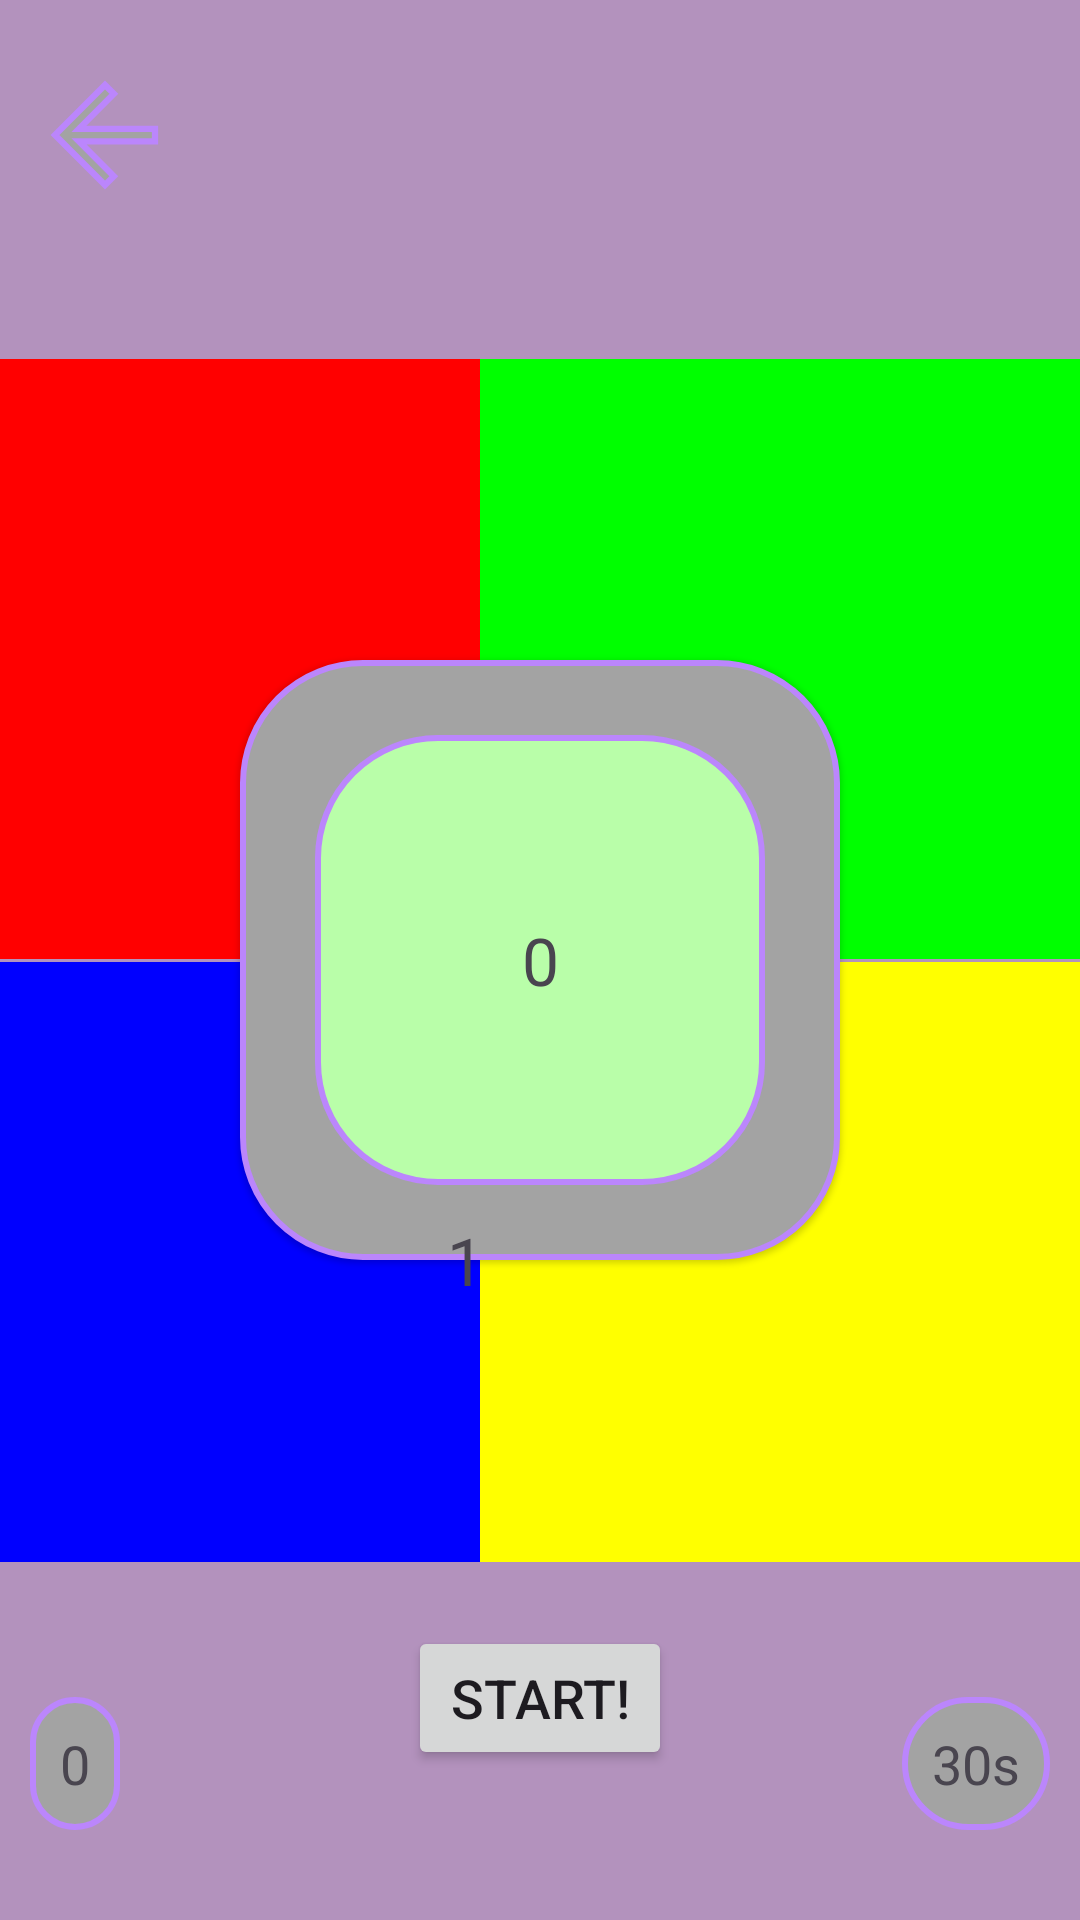

Icons on this 1080px×1920px Android screen, each with its box as (x1, y1, x2, y2):
arrow back: (51, 81, 158, 189)
